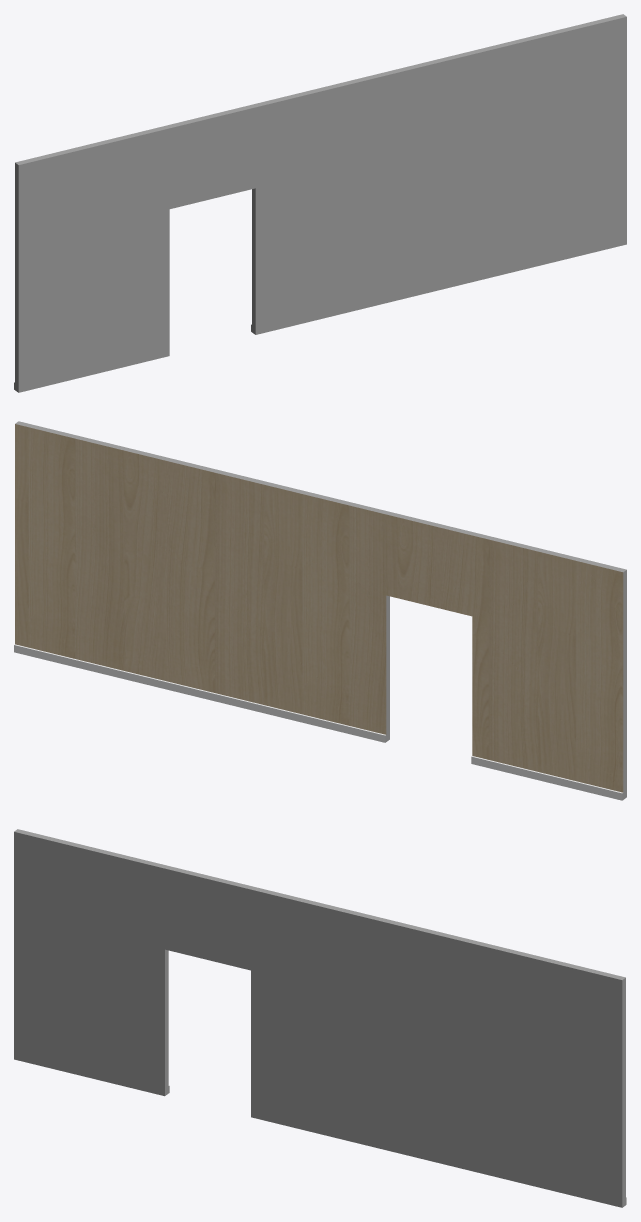
The model's file is Wall 3.FBX.
3 renders of one model, top to bottom at view 1: azimuth 30°, elevation 25°; view 2: azimuth 150°, elevation 25°; view 3: azimuth 330°, elevation 25°, orthographic.
Visible parts, largest first — view 1: Wall 3; view 2: Wall 3; view 3: Wall 3.
Part boxes in pixels (bbox=[...]): Wall 3: bbox=[14, 14, 626, 392]; Wall 3: bbox=[14, 421, 626, 800]; Wall 3: bbox=[14, 829, 626, 1207].
Size of the model in its own units: 904 by 323 by 11.98.
3 materials, 1 textured.
